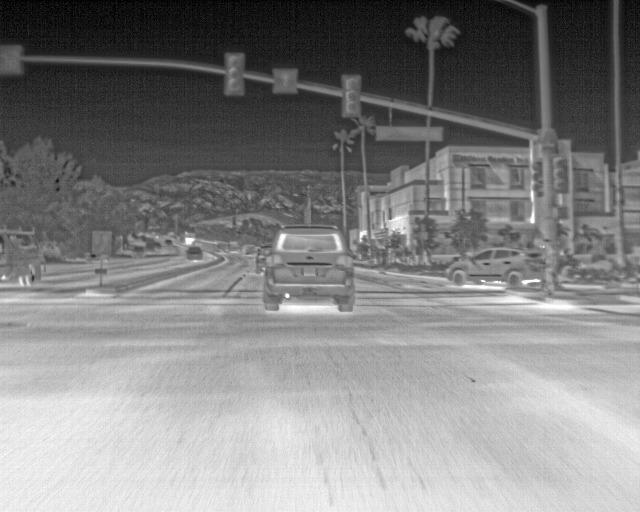car: (262, 225, 355, 312), (445, 247, 538, 286), (0, 229, 41, 285), (256, 245, 272, 274), (85, 250, 109, 263), (187, 246, 202, 261), (180, 232, 196, 246), (214, 243, 229, 254), (131, 246, 145, 257), (242, 244, 256, 255), (228, 241, 241, 252), (146, 243, 155, 252), (191, 240, 202, 247), (154, 242, 162, 250), (165, 239, 173, 246), (146, 238, 155, 243), (141, 235, 147, 242)
light: (226, 55, 243, 92), (345, 78, 359, 114), (553, 155, 567, 191), (531, 158, 543, 195), (553, 205, 567, 218)
sign: (375, 126, 444, 141), (0, 45, 23, 74), (274, 68, 297, 92), (92, 231, 111, 254), (95, 269, 107, 274)
